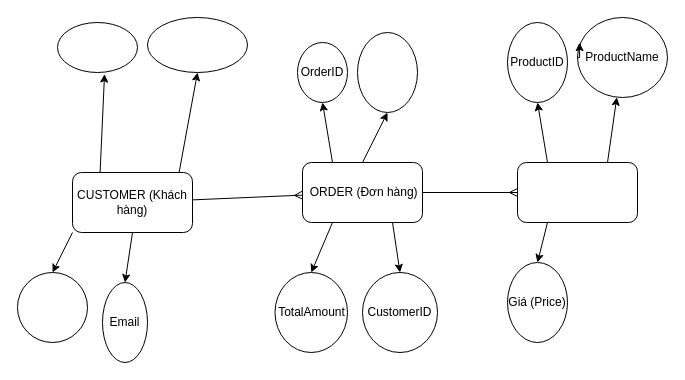
Some shapes in this 685 by 380 pixel diagram are drawn without their labels. The centre of each missing label's shape, as x and y in pixels:
"(OrderDate" belongs at point (387, 72).
"Address" belongs at point (52, 307).
"CustomerID)" belongs at point (97, 47).
"CustomerName" belongs at point (197, 44).
"PRODUCT (Sản phẩm)" belongs at point (577, 192).
